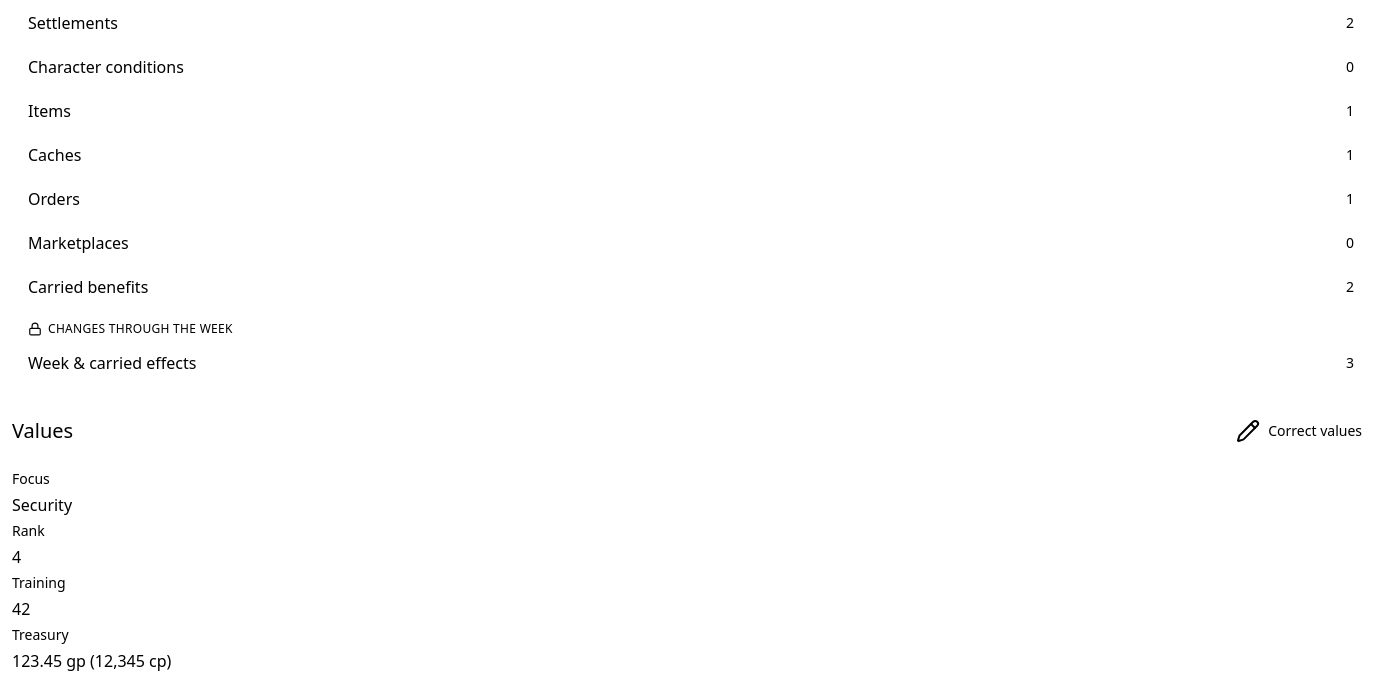
Scenario: Carried benefits correction › a malformed bonus is invalid and an empty week is required, linked to their fields
Click the button "Carried benefits 2".
click(88, 287)  # box [12,265,1370,309]
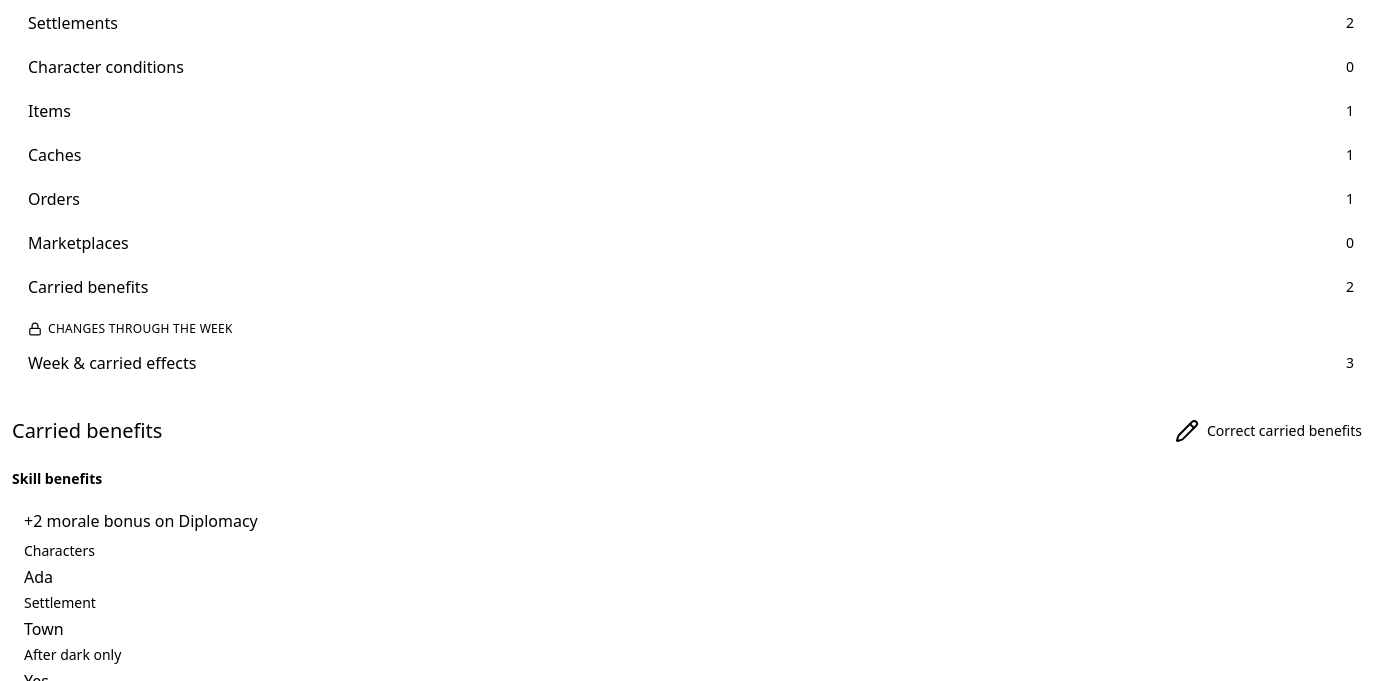
Click the button "Correct carried benefits".
click(1268, 431)  # box [1159,409,1378,453]
(page scrolled)
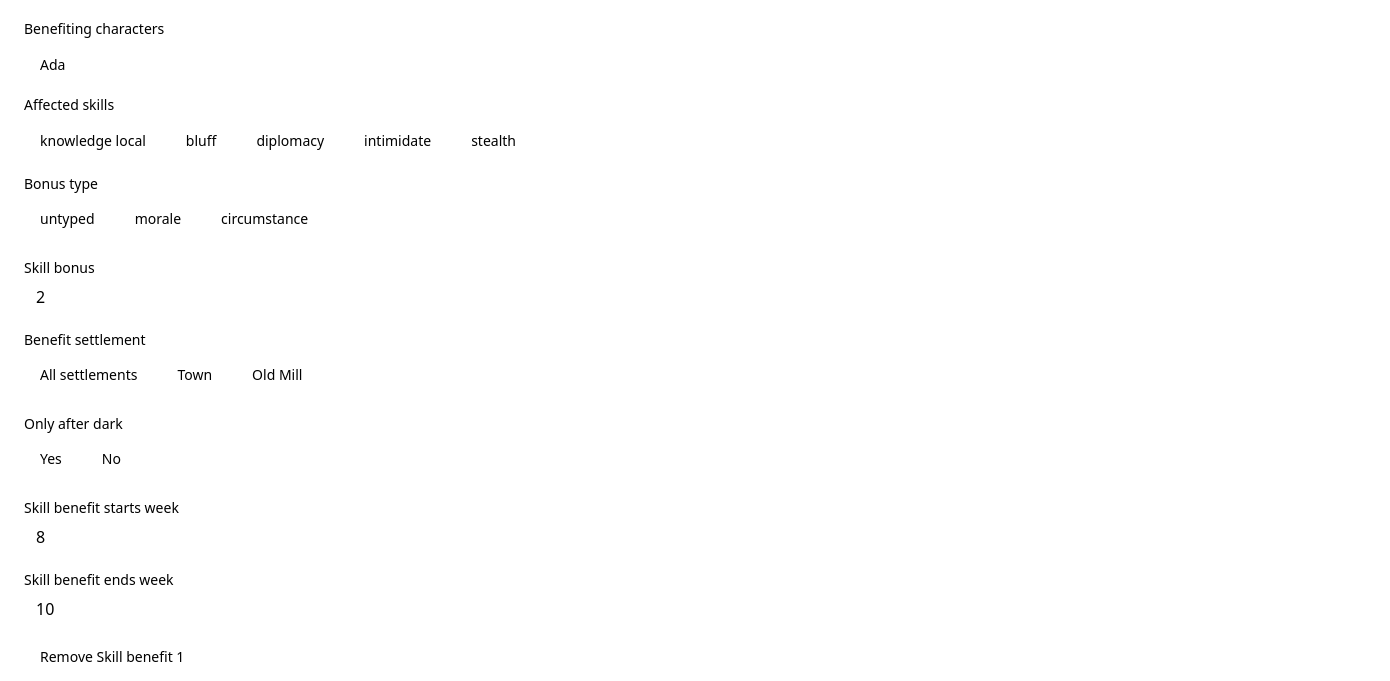
Replace the text in the field labelled "Skill bonus" with "2.5" at [695, 297], box [24,279,1366,315]
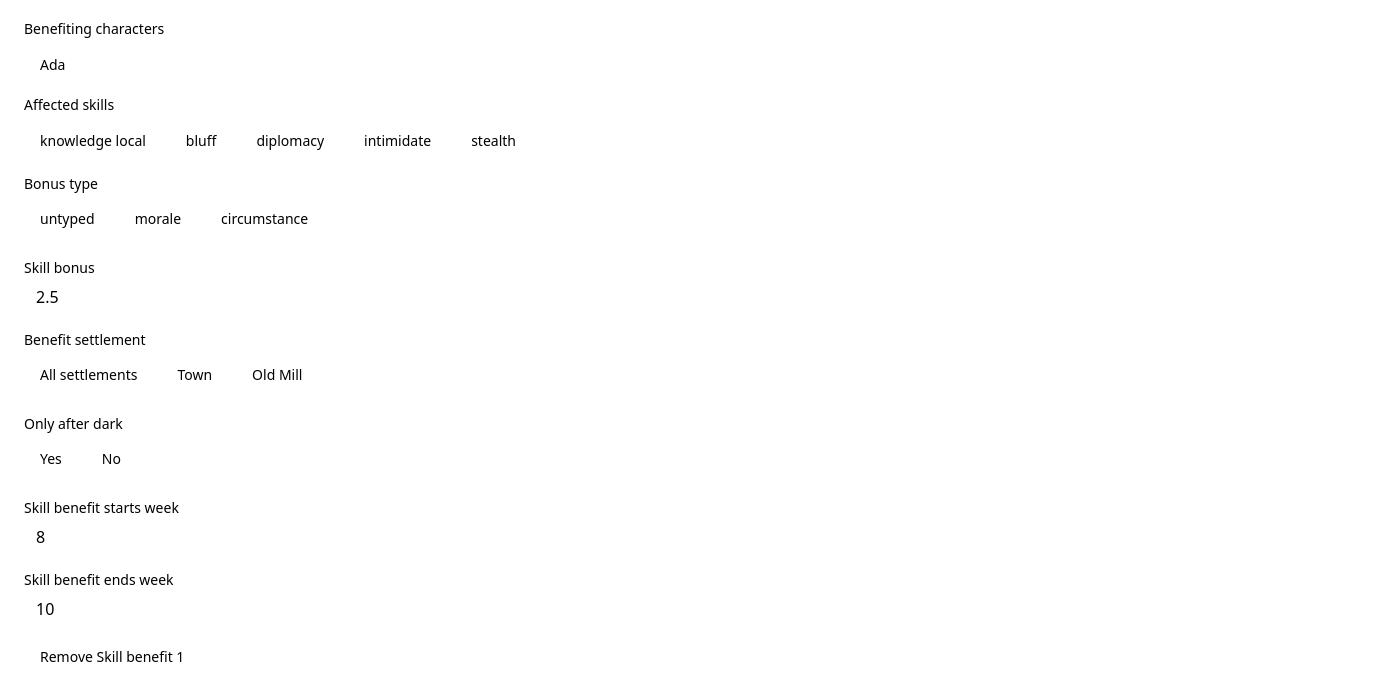
Clear the field labelled "Skill benefit ends week" at [695, 609], box [24,591,1366,627]
(page scrolled)
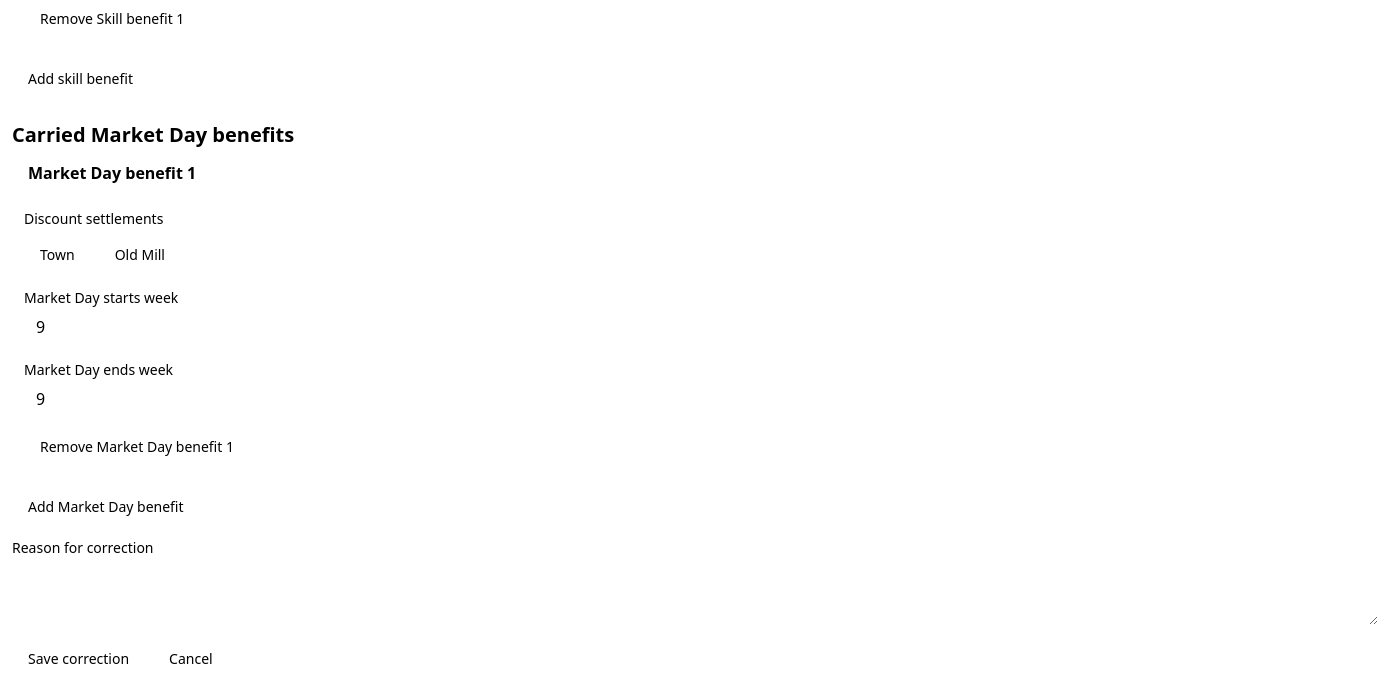
Type "Recount" into the text box labelled "Reason for correction".
click(695, 593); type("Recount")  # box [12,561,1378,625]
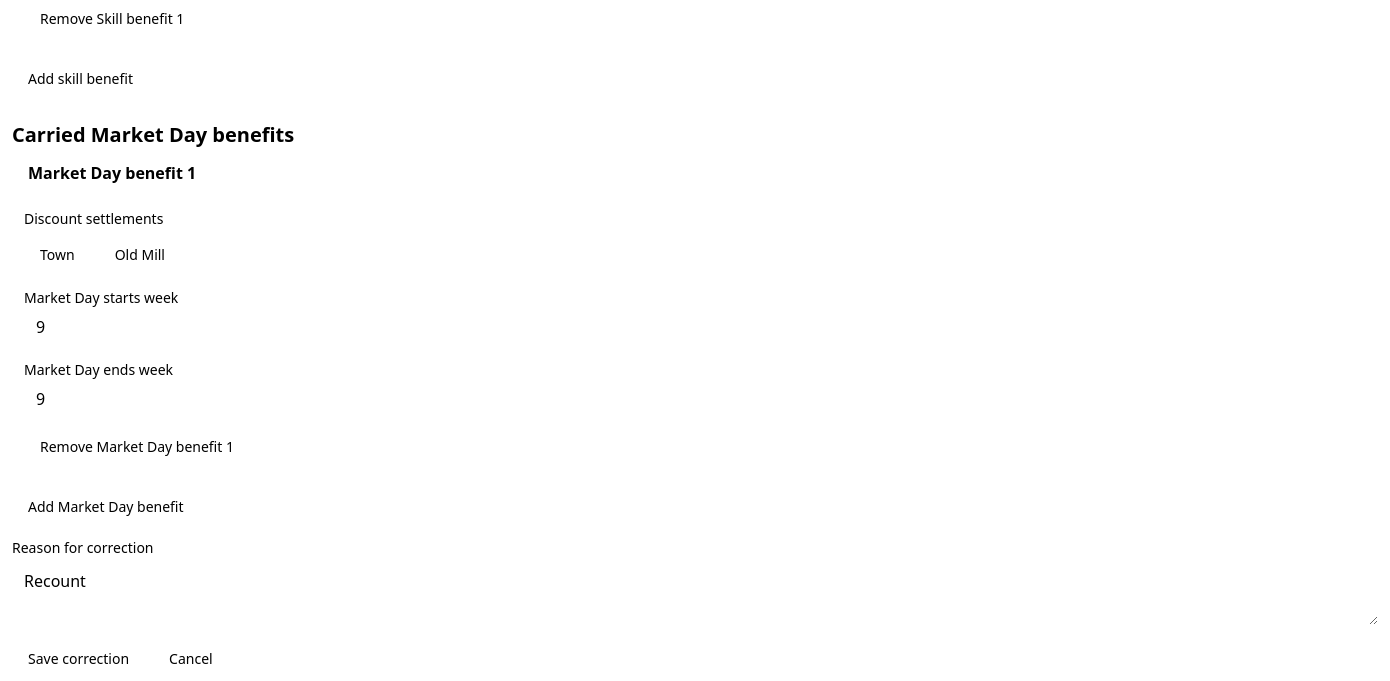
Click the button "Save correction".
click(79, 659)  # box [12,637,145,680]
(page scrolled)
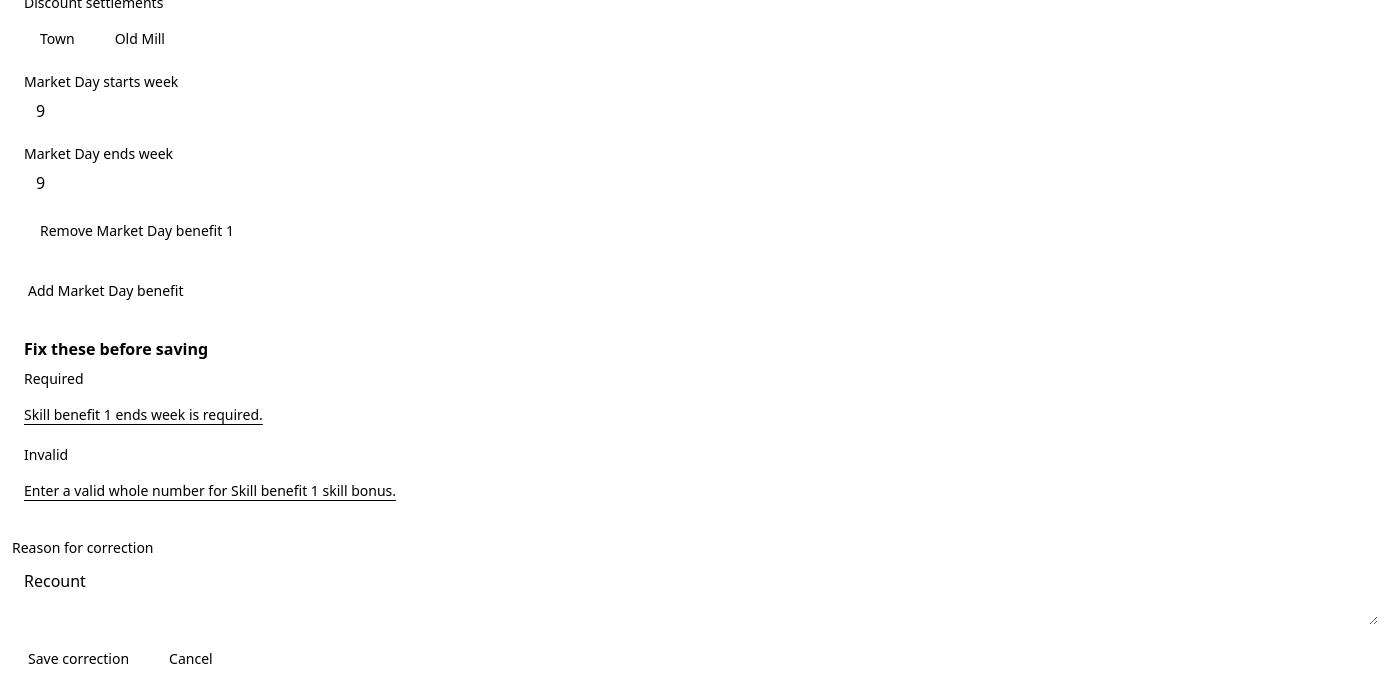
expect the button "Enter a valid whole number for Skill benefit 1 skill bonus." is shown: met, box [24,469,396,513]
expect the button "Skill benefit 1 ends week is required." is shown: met, box [24,393,263,437]
